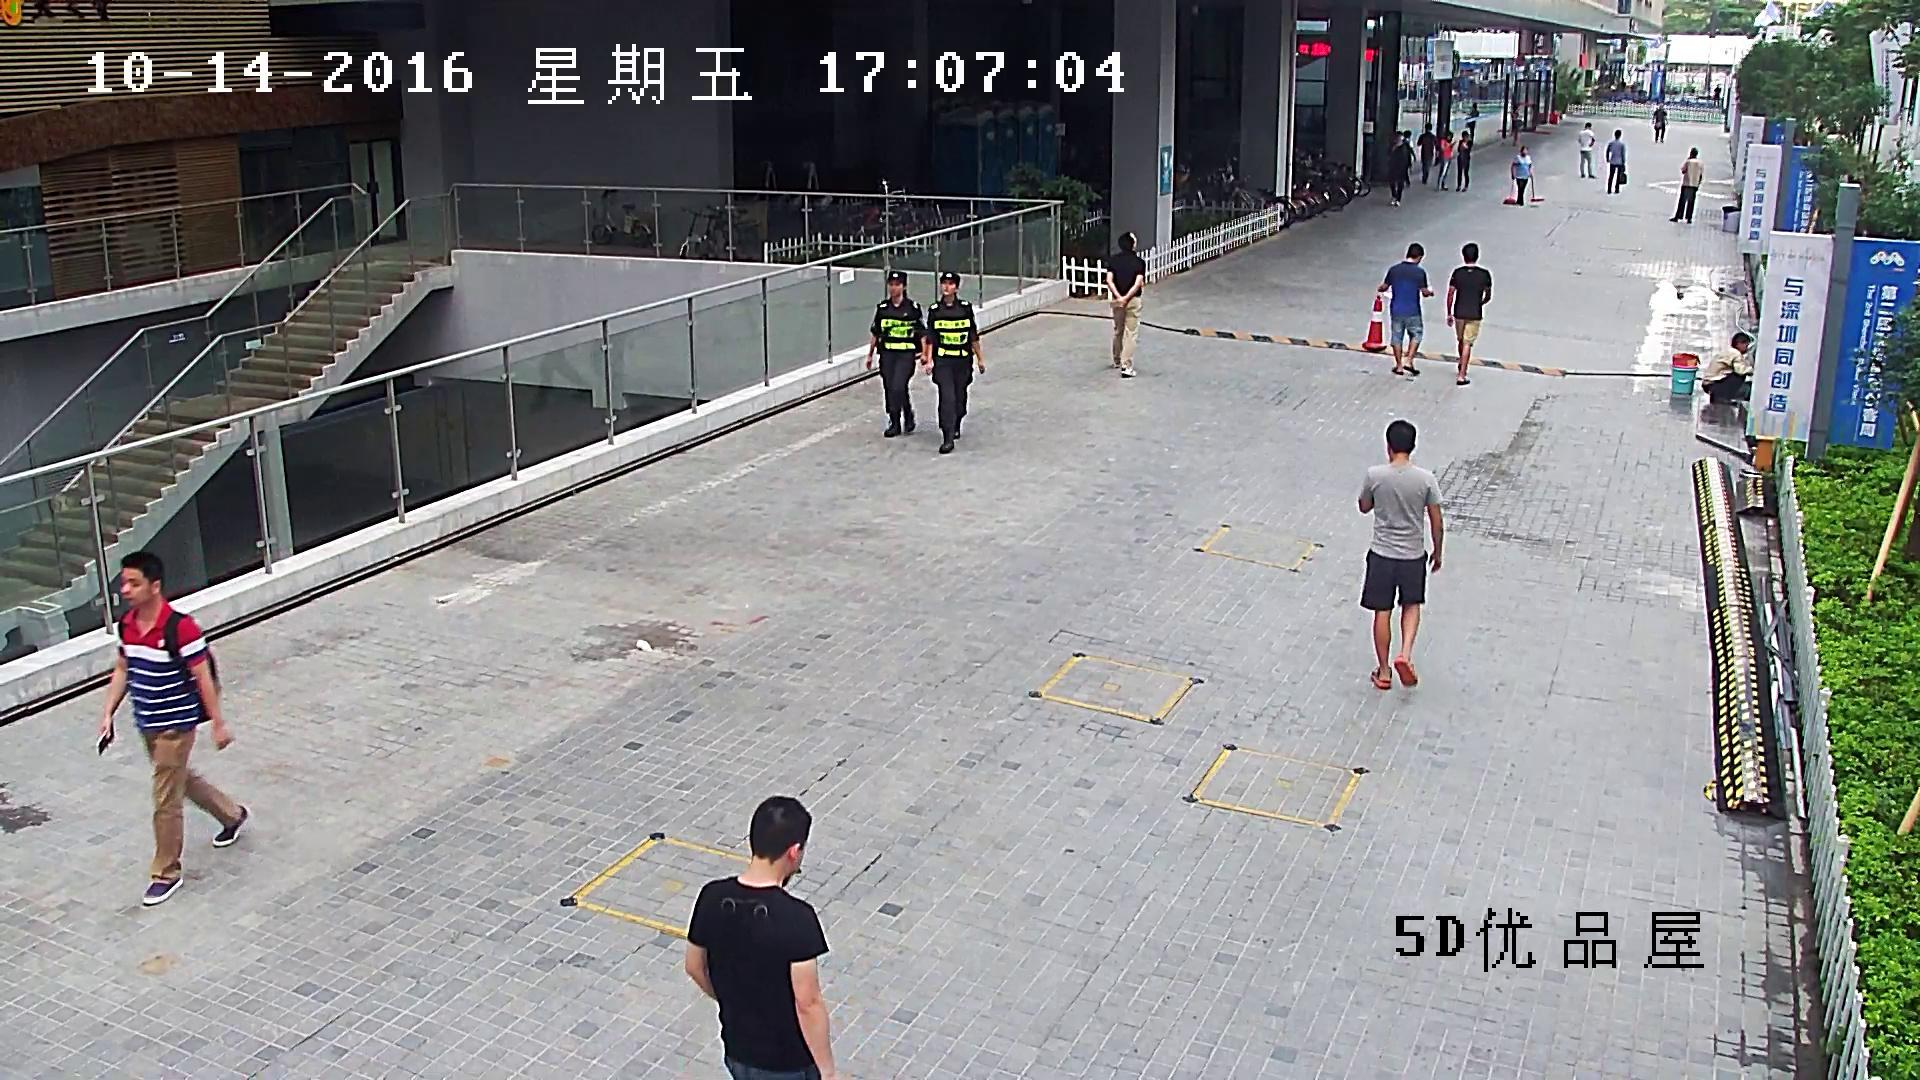person: (96, 550, 247, 905), (685, 795, 834, 1080), (1358, 419, 1444, 689), (925, 271, 985, 453), (865, 269, 926, 437), (1378, 241, 1432, 374), (1446, 242, 1491, 383), (1106, 231, 1145, 375), (1702, 331, 1753, 403), (1668, 147, 1704, 223), (1503, 146, 1544, 205), (1387, 130, 1408, 206), (1605, 128, 1626, 193), (1510, 145, 1532, 205), (1416, 123, 1438, 183), (1455, 130, 1473, 192), (1437, 131, 1455, 190), (1578, 121, 1596, 178), (1650, 102, 1668, 143), (1403, 130, 1416, 187), (1465, 100, 1478, 141), (1510, 102, 1522, 144), (1712, 83, 1721, 107)
